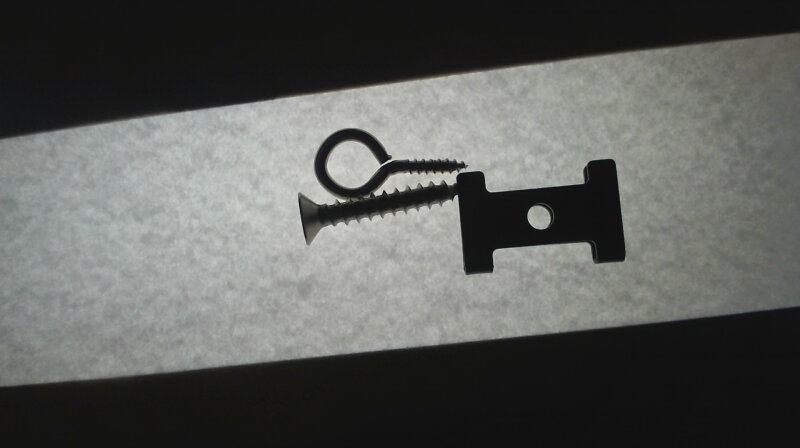O001: (309, 124, 476, 198)
O002: (453, 157, 629, 276)
S001: (294, 180, 463, 248)
